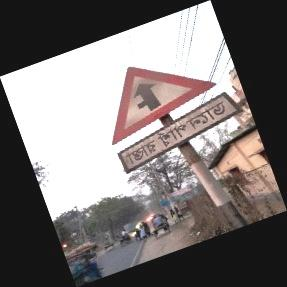Side-road-right: (113, 69, 243, 178)
